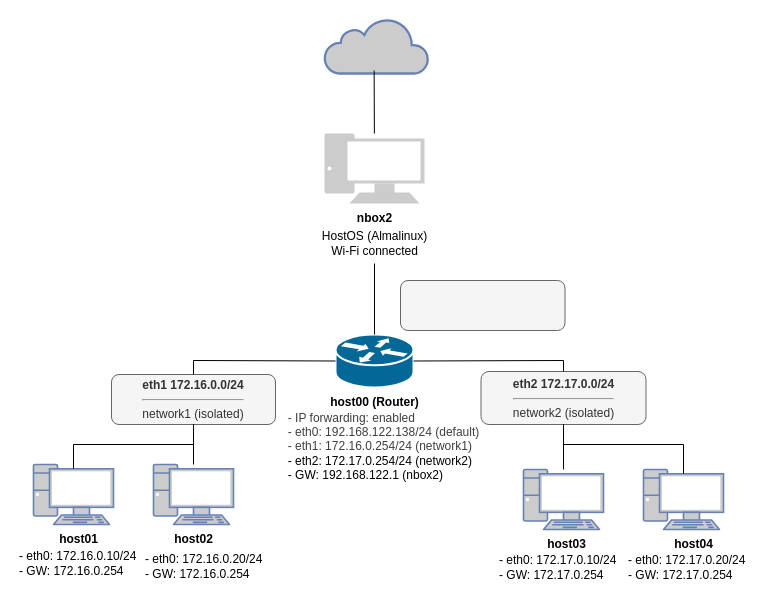
This 778x604 diagram has some shape labels left out. The shapes that lost their labels are listed below. From the top down, each one's centre as x and y in pixels, then its label:
At (x=376, y=45): "Internet".
At (x=482, y=305): "eth0 192.168.122.0/24 libvirt default NAT".
